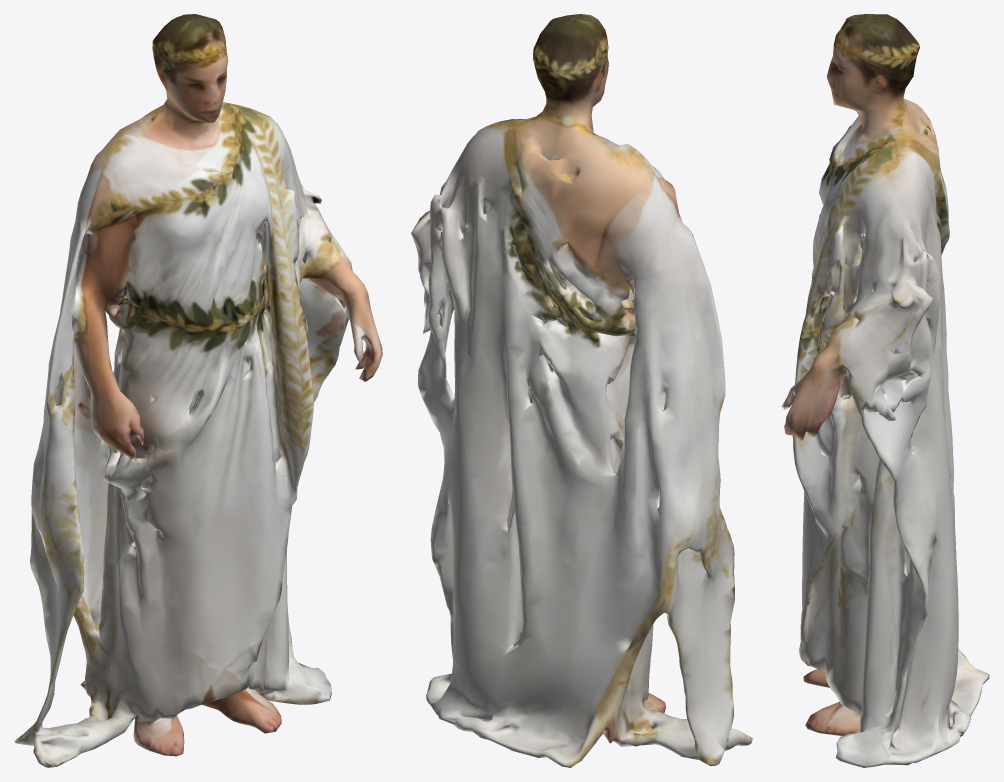
File: job_1743890607_refined.glb
The picture shows the model from 3 angles, left to right: view 1: azimuth 30°, elevation 25°; view 2: azimuth 150°, elevation 25°; view 3: azimuth 270°, elevation 25°; orthographic projection.
Size of the model in its own units: 0.9529 by 2 by 0.5472.
Materials: 1 (1 with a texture image).
